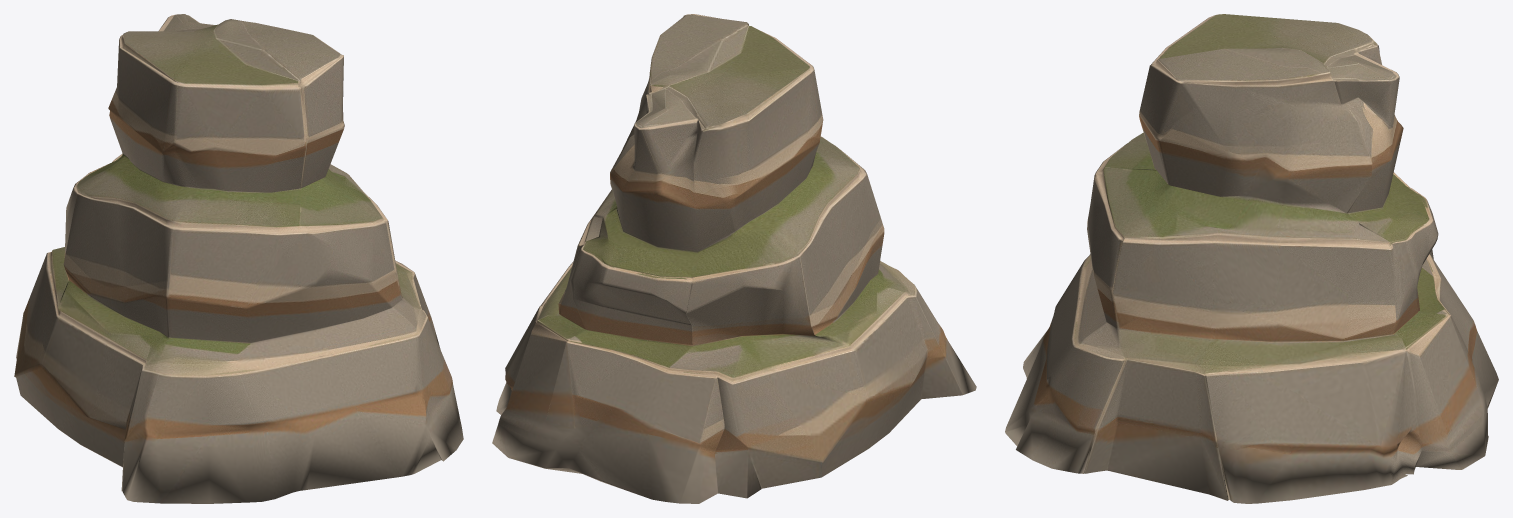
Rendered from AW-CLIFF-001-v0.2.glb.
3 renders of one model, left to right at view 1: azimuth 30°, elevation 25°; view 2: azimuth 150°, elevation 25°; view 3: azimuth 270°, elevation 25°, orthographic. The views are drawn at different scales.
Parts seen in each view (by area): view 1: AW-CLIFF-001_meter_ground_pivot; view 2: AW-CLIFF-001_meter_ground_pivot; view 3: AW-CLIFF-001_meter_ground_pivot.
Part boxes in pixels (x1=…): AW-CLIFF-001_meter_ground_pivot: x1=14, y1=14, x2=463, y2=503; AW-CLIFF-001_meter_ground_pivot: x1=492, y1=14, x2=976, y2=503; AW-CLIFF-001_meter_ground_pivot: x1=1005, y1=14, x2=1498, y2=503.
Size of the model in its own units: 4.73 by 4.2 by 5.17.
1 material, 1 textured.
